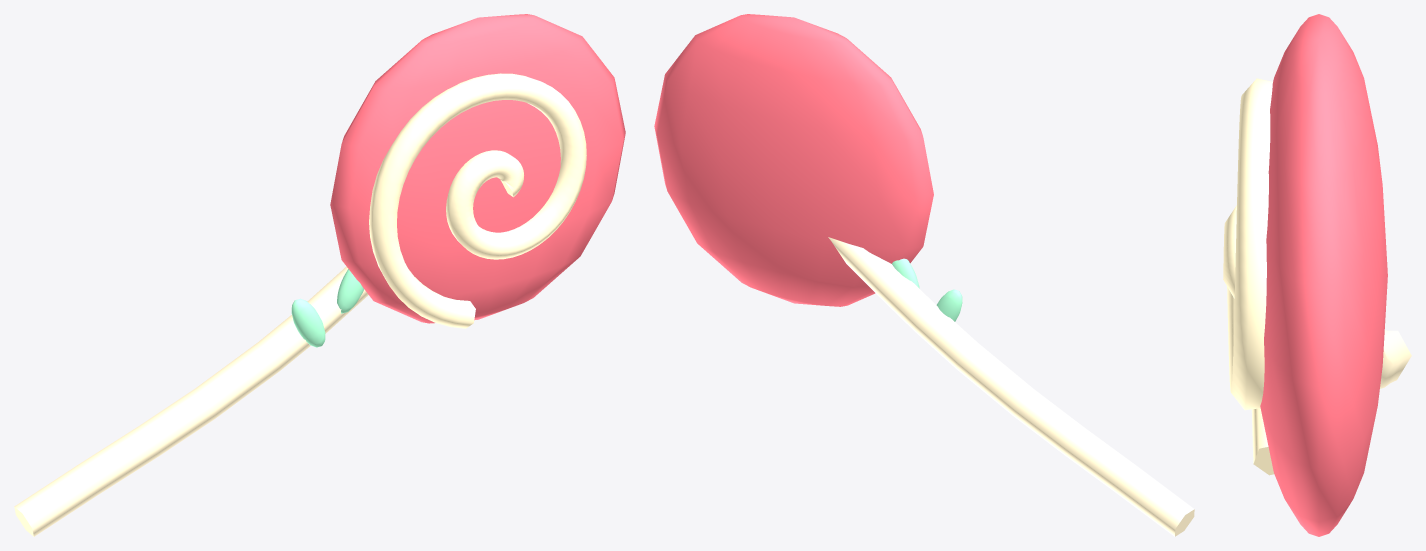
The model's file is soda_swirl.glb.
3 views of the same model, side by side, from view 1: azimuth 30°, elevation 25°; view 2: azimuth 150°, elevation 25°; view 3: azimuth 270°, elevation 25° (orthographic). The views are drawn at different scales.
Parts seen in each view (by area): view 1: Soda Swirl Pop; view 2: Soda Swirl Pop; view 3: Soda Swirl Pop.
Part boxes in pixels (x1,y1,x2,y2): Soda Swirl Pop: (14, 14, 625, 536); Soda Swirl Pop: (654, 14, 1194, 536); Soda Swirl Pop: (1223, 14, 1411, 536).
Size of the model in its own units: 1 by 0.6941 by 0.1781.
